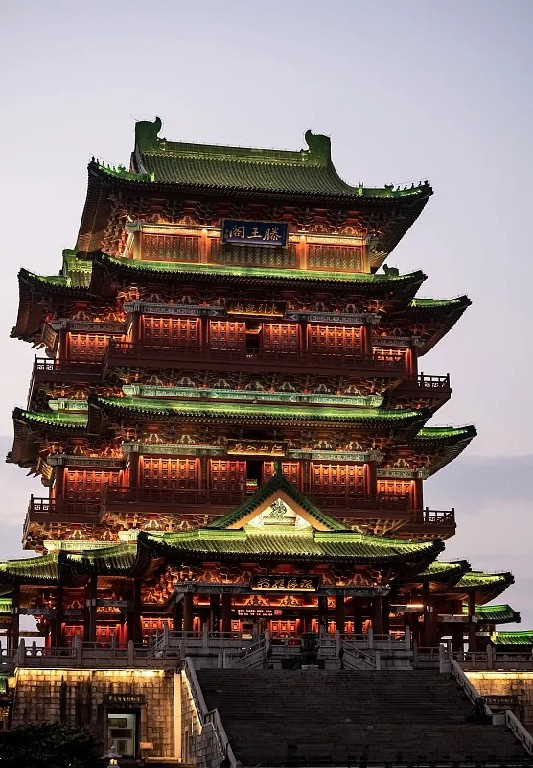Teng: (2, 117, 519, 668)
